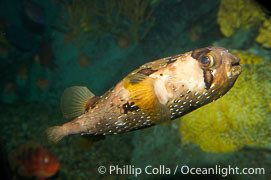Diodon_holocanthus: (40, 43, 242, 149)
